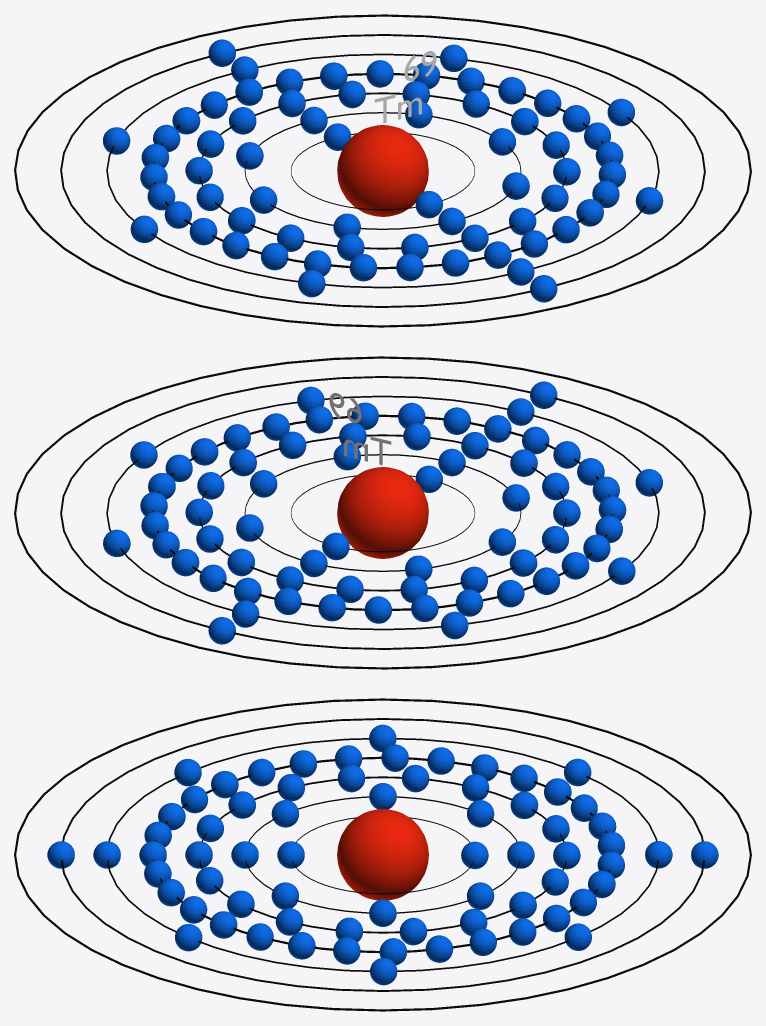
The picture shows the model from 3 angles, top to bottom: view 1: azimuth 30°, elevation 25°; view 2: azimuth 150°, elevation 25°; view 3: azimuth 270°, elevation 25°; orthographic projection.
Visible parts, largest first — view 1: Tm4, Tm3, Proton, Tm5, n7, Tm2, n6, n5, Tm6, Tm1, n3, n4 (+1 smaller); view 2: Tm4, Tm3, Proton, Tm5, n7, Tm2, n6, n5, Tm6, Tm1, n3, n4 (+1 smaller); view 3: Tm4, Tm3, Proton, Tm2, Tm5, n7, n6, n5, Tm1, Tm6, n3, n4 (+2 smaller).
Boxes of the visible parts, x1,y1,x2,y2 form: Tm4: [140, 60, 625, 281]; Tm3: [185, 80, 580, 260]; Proton: [337, 125, 428, 216]; Tm5: [103, 44, 663, 297]; n7: [14, 14, 751, 327]; Tm2: [236, 101, 529, 238]; n6: [60, 34, 705, 307]; n5: [106, 53, 659, 288]; Tm6: [208, 39, 557, 302]; Tm1: [323, 123, 442, 218]; n3: [199, 92, 566, 249]; n4: [153, 73, 611, 269]; Tm4: [140, 402, 626, 623]; Tm3: [185, 422, 580, 602]; Proton: [337, 467, 428, 558]; Tm5: [103, 386, 662, 639]; n7: [14, 356, 751, 669]; Tm2: [236, 443, 529, 580]; n6: [60, 376, 705, 649]; n5: [106, 395, 659, 630]; Tm6: [208, 381, 557, 644]; Tm1: [322, 465, 442, 560]; n3: [199, 434, 566, 591]; n4: [152, 414, 612, 610]; Tm4: [139, 744, 624, 965]; Tm3: [185, 764, 580, 945]; Proton: [337, 809, 428, 900]; Tm2: [231, 783, 534, 926]; Tm5: [93, 724, 672, 985]; n7: [14, 698, 751, 1011]; n6: [61, 718, 704, 991]; n5: [107, 738, 658, 971]; Tm1: [277, 841, 488, 869]; Tm6: [47, 841, 718, 868]; n3: [199, 776, 566, 933]; n4: [153, 756, 612, 953].
Size of the model in its own units: 802 by 180 by 802.
